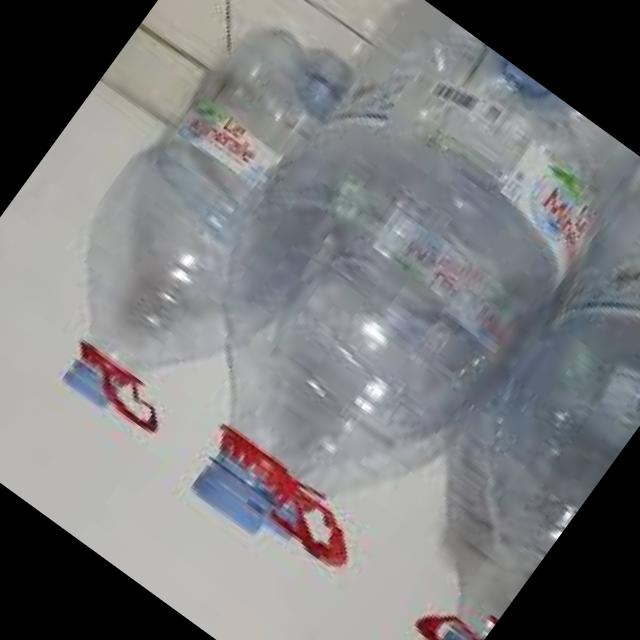Galon: (91, 0, 640, 606), (0, 0, 406, 493)
